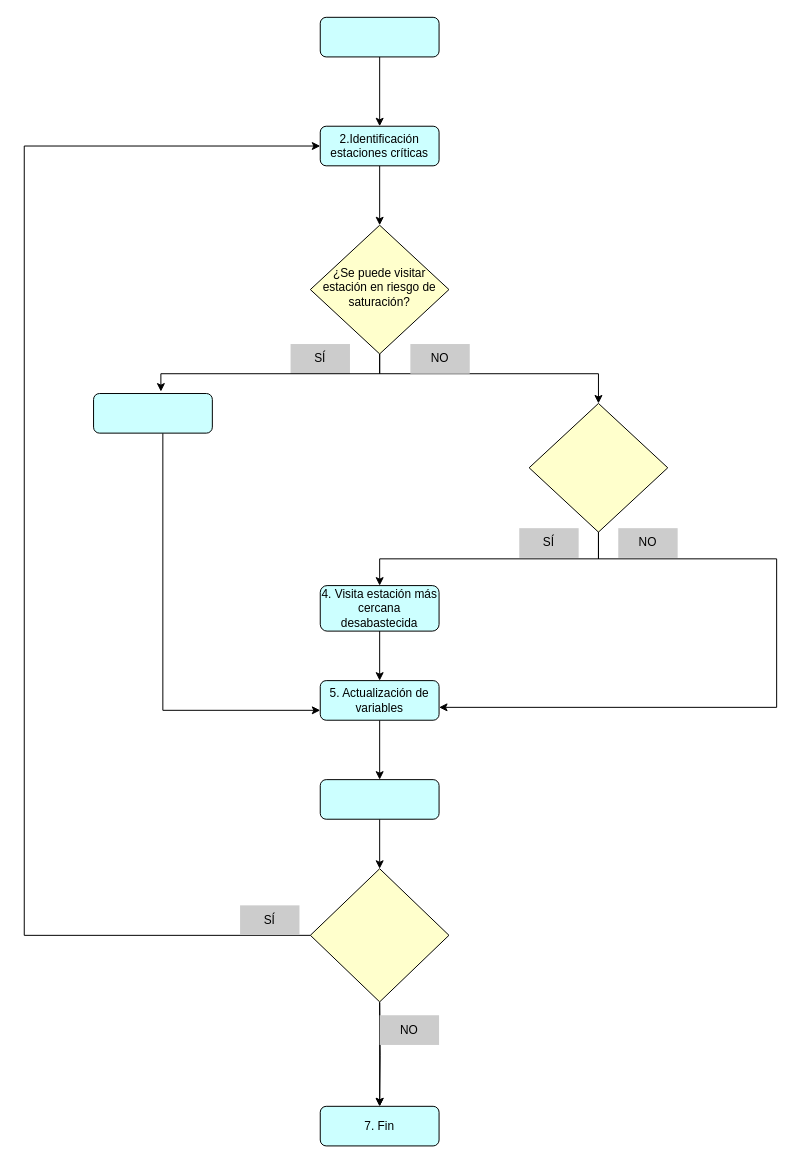
Image size: 802x1163. Some labels were removed from this diagram. The shapes that lost their labels are listed below. From the top down, each one's box as (x1, y1, x2, y2) in pixels, then its label:
(319, 16, 439, 57): 1. Inicio
(93, 393, 212, 433): 3. Visita estación más cercana saturada
(528, 402, 668, 532): ¿Se puede visitar estación en riesgo de desabastecimiento?
(319, 779, 439, 819): 6. Verificación de jornada laboral
(309, 868, 449, 1002): ¿Se pueden visitar más estaciones cumpliendo el tiempo?
